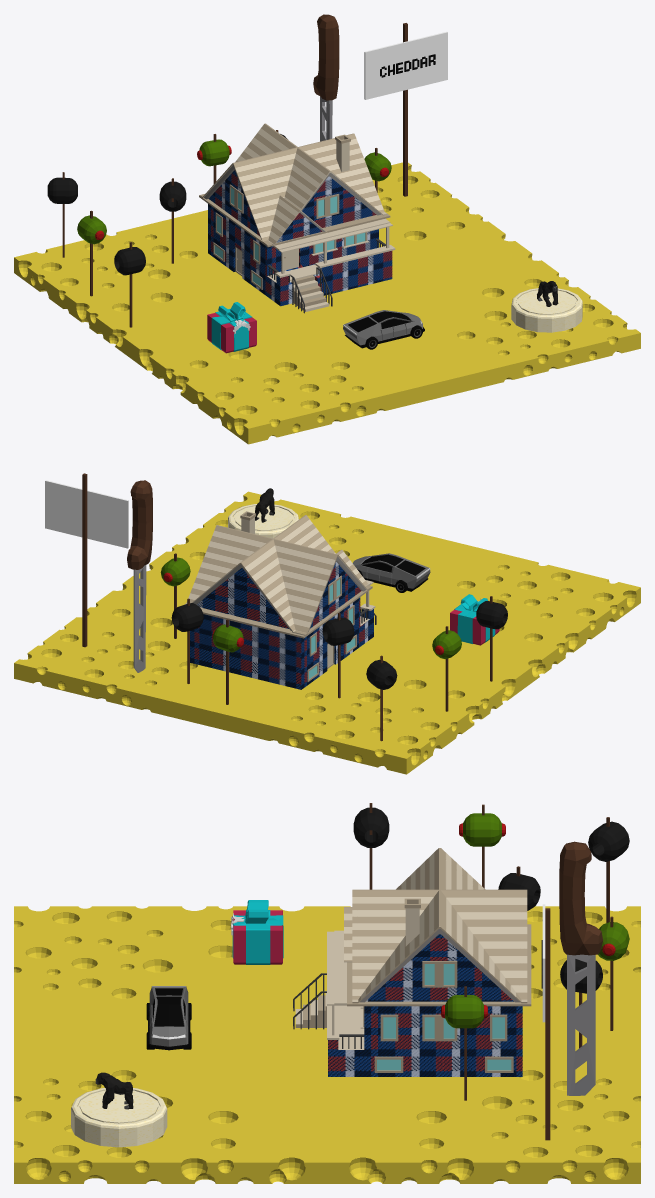
3 views of the same model, one above another, from view 1: azimuth 30°, elevation 25°; view 2: azimuth 150°, elevation 25°; view 3: azimuth 270°, elevation 25° (orthographic). The views are drawn at different scales.
Parts seen in each view (by area): view 1: Cube.022, Cube.171, Cube.023, Cylinder.016, Cube.024, VEHICLES_CYBERTRUCK, OBJRANDOM_GIANT_PRESENT, Sphere.017, Sphere.016, Sphere.020, Sphere.018, Sphere.022 (+1 smaller); view 2: Cube.022, Cube.171, Cube.023, Cube.024, VEHICLES_CYBERTRUCK, OBJRANDOM_GIANT_PRESENT, Cylinder.016, Sphere.017, Sphere.020, Sphere.021, Sphere.016, Sphere.018 (+3 smaller); view 3: Cube.022, Cube.171, Cube.024, Cylinder.016, OBJRANDOM_GIANT_PRESENT, VEHICLES_CYBERTRUCK, Cube.023, Sphere.019, Sphere.016, Sphere.018, Sphere.017, Sphere.022 (+3 smaller).
Boxes of the visible parts, x1=… form: Cube.022: x1=14, y1=162, x2=640, y2=444; Cube.171: x1=199, y1=123, x2=395, y2=313; Cube.023: x1=364, y1=23, x2=447, y2=196; Cylinder.016: x1=511, y1=288, x2=582, y2=332; Cube.024: x1=313, y1=14, x2=339, y2=141; VEHICLES_CYBERTRUCK: x1=343, y1=310, x2=424, y2=349; OBJRANDOM_GIANT_PRESENT: x1=207, y1=302, x2=256, y2=353; Sphere.017: x1=114, y1=242, x2=145, y2=327; Sphere.016: x1=47, y1=172, x2=77, y2=257; Sphere.020: x1=159, y1=178, x2=186, y2=263; Sphere.018: x1=77, y1=210, x2=106, y2=296; Sphere.022: x1=197, y1=134, x2=231, y2=183; Cube.022: x1=14, y1=491, x2=640, y2=774; Cube.171: x1=184, y1=511, x2=376, y2=689; Cube.023: x1=45, y1=473, x2=128, y2=647; Cube.024: x1=127, y1=480, x2=152, y2=672; VEHICLES_CYBERTRUCK: x1=352, y1=553, x2=430, y2=592; OBJRANDOM_GIANT_PRESENT: x1=450, y1=594, x2=499, y2=645; Cylinder.016: x1=228, y1=504, x2=298, y2=538; Sphere.017: x1=476, y1=596, x2=507, y2=681; Sphere.020: x1=322, y1=612, x2=354, y2=698; Sphere.021: x1=171, y1=598, x2=203, y2=683; Sphere.016: x1=366, y1=655, x2=397, y2=741; Sphere.018: x1=432, y1=626, x2=461, y2=711; Cube.022: x1=14, y1=906, x2=640, y2=1183; Cube.171: x1=293, y1=848, x2=531, y2=1076; Cube.024: x1=559, y1=841, x2=602, y2=1095; Cylinder.016: x1=71, y1=1088, x2=167, y2=1147; OBJRANDOM_GIANT_PRESENT: x1=231, y1=900, x2=283, y2=964; VEHICLES_CYBERTRUCK: x1=146, y1=986, x2=191, y2=1050; Cube.023: x1=541, y1=904, x2=550, y2=1140; Sphere.019: x1=441, y1=986, x2=487, y2=1100; Sphere.016: x1=588, y1=817, x2=629, y2=922; Sphere.018: x1=459, y1=804, x2=505, y2=888; Sphere.017: x1=353, y1=803, x2=389, y2=889; Sphere.022: x1=598, y1=916, x2=629, y2=1030.
Bounding box in the file's own units: 3917 × 2159 × 4000.
30 materials, 4 textured.
